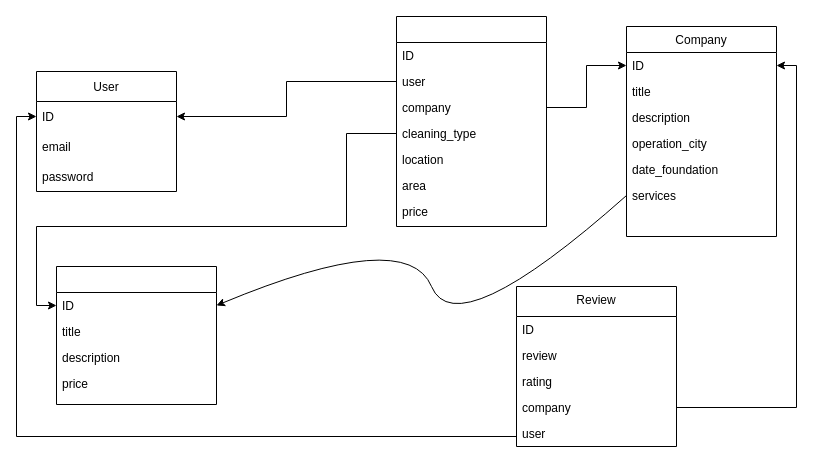
Image size: 813x463. Some labels were removed from this diagram. Each missing label, with the box of its shape:
Request: (396, 16, 546, 226)
Service: (56, 266, 216, 404)
